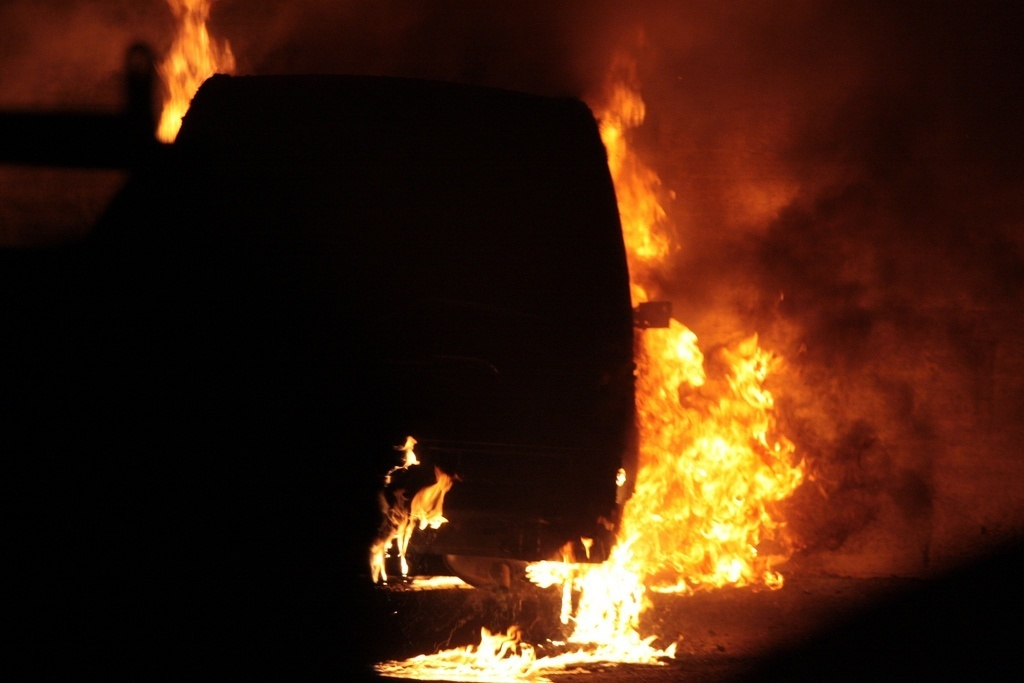fire: (348, 64, 832, 645), (150, 0, 233, 143)
